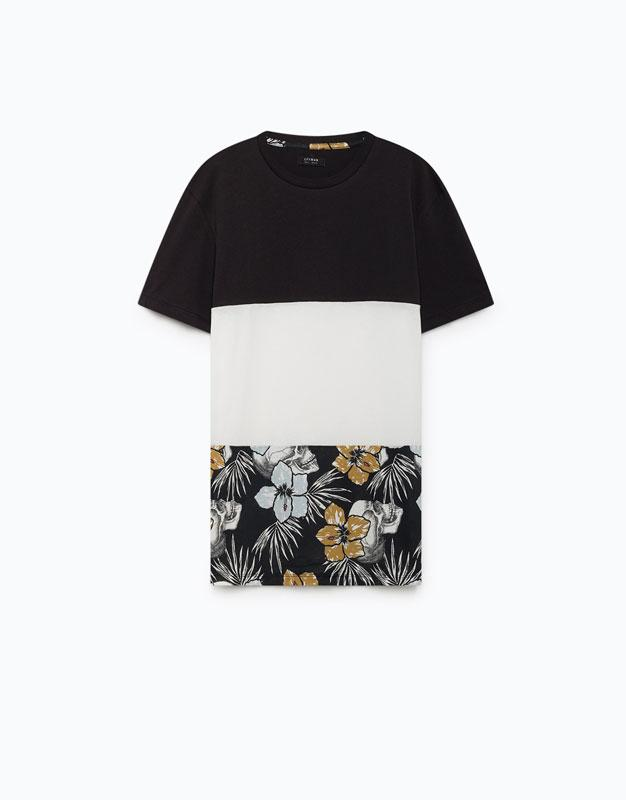teeshirt: (113, 87, 533, 644)
